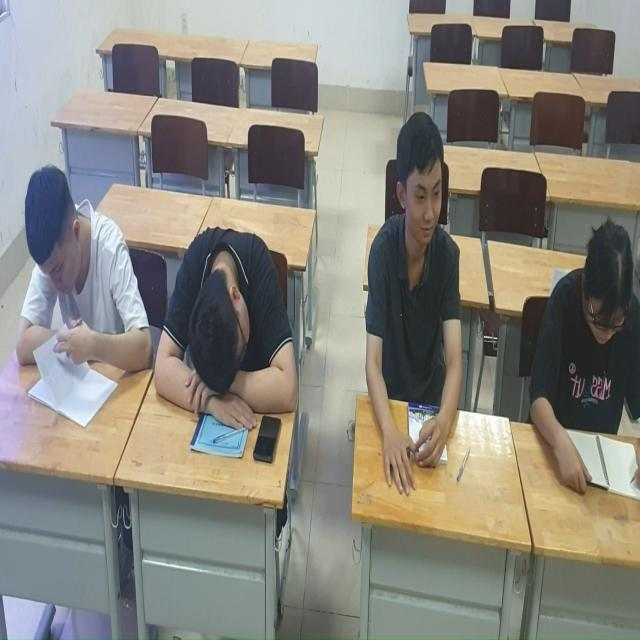read: (362, 104, 468, 459), (9, 155, 145, 422), (519, 215, 640, 499)
sleep: (153, 206, 302, 435)
